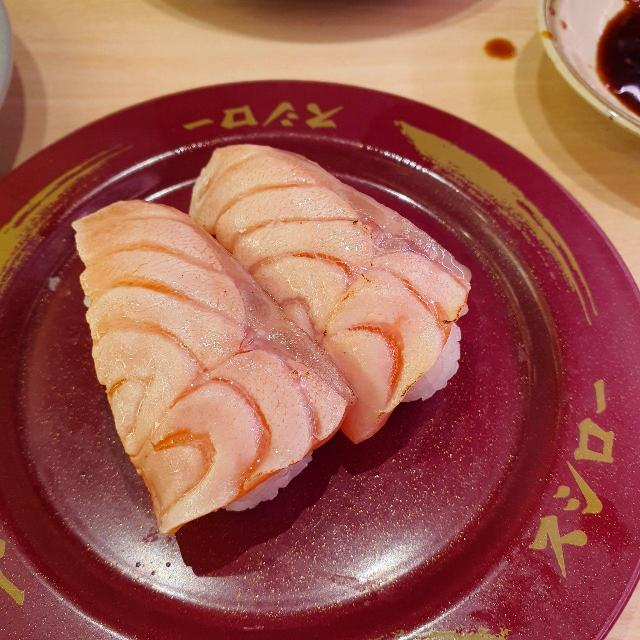janred: (0, 87, 640, 640)
